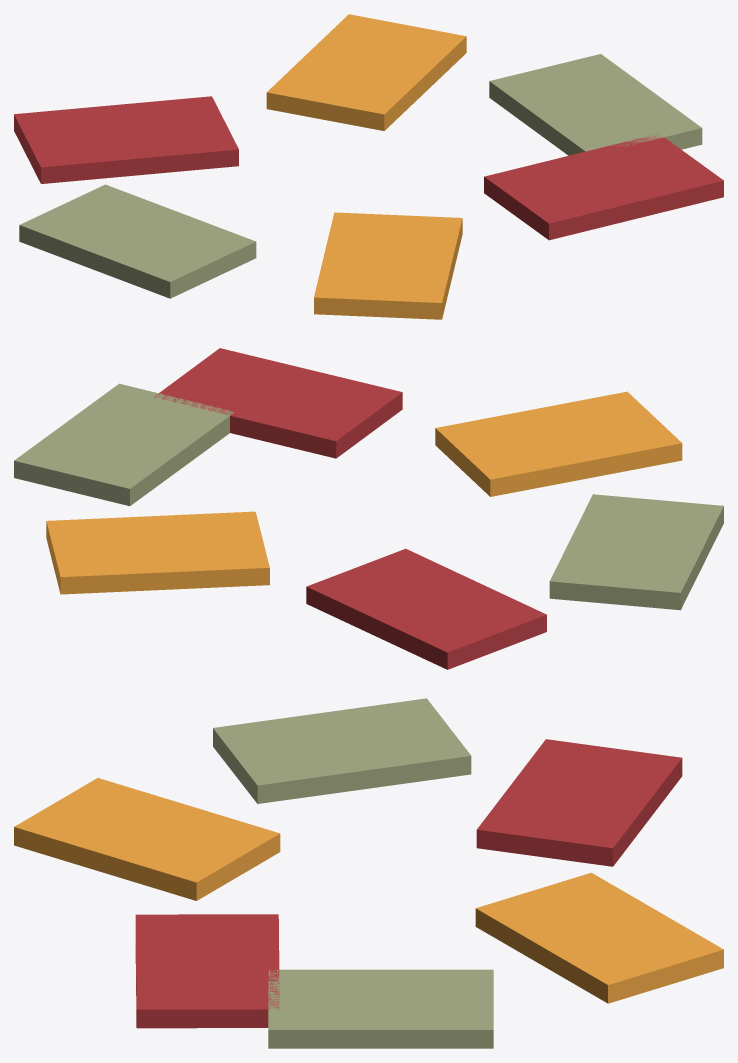
The model's file is decor_leaves.glb.
3 renders of one model, top to bottom at view 1: azimuth 30°, elevation 25°; view 2: azimuth 150°, elevation 25°; view 3: azimuth 270°, elevation 25°, orthographic. The views are drawn at different scales.
Parts seen in each view (by area): view 1: decor_leaves; view 2: decor_leaves; view 3: decor_leaves.
Part boxes in pixels (x1=…): decor_leaves: x1=14, y1=14, x2=723, y2=319; decor_leaves: x1=14, y1=348, x2=723, y2=669; decor_leaves: x1=14, y1=698, x2=723, y2=1048.
Size of the model in its own units: 0.3835 by 0.01 by 0.3469.
